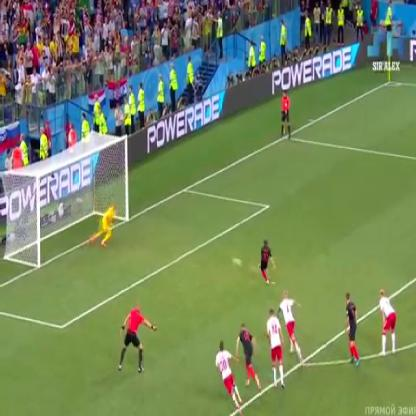penalty kick: (11, 165, 285, 285)
